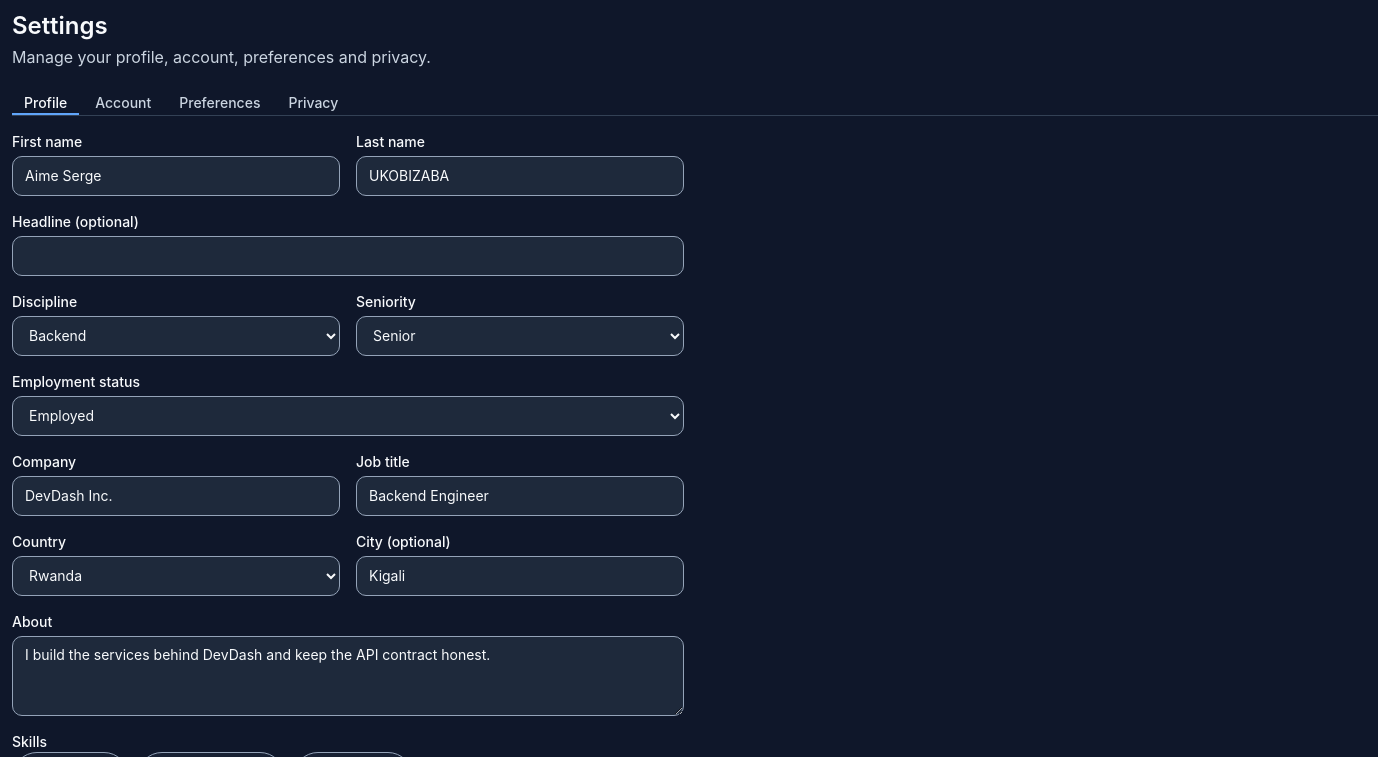
Test: MF-12 settings › MF-16: the privacy switch saves immediately
Click the tab "Privacy" at (313, 104), box [276, 93, 350, 115]
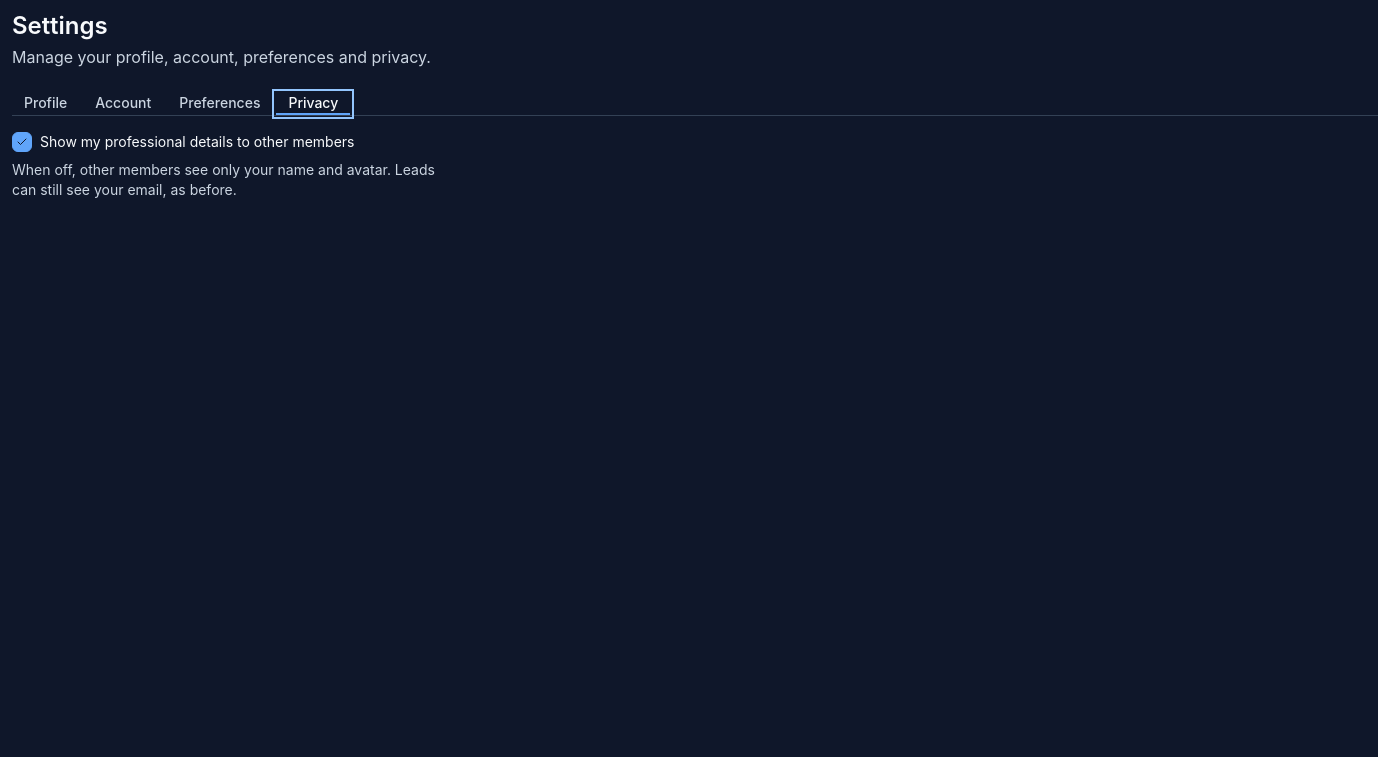
Now the checkbox labelled "Show my professional details to other members" is checked
Click the checkbox labelled "Show my professional details to other members" at (183, 142), box [12, 132, 354, 152]
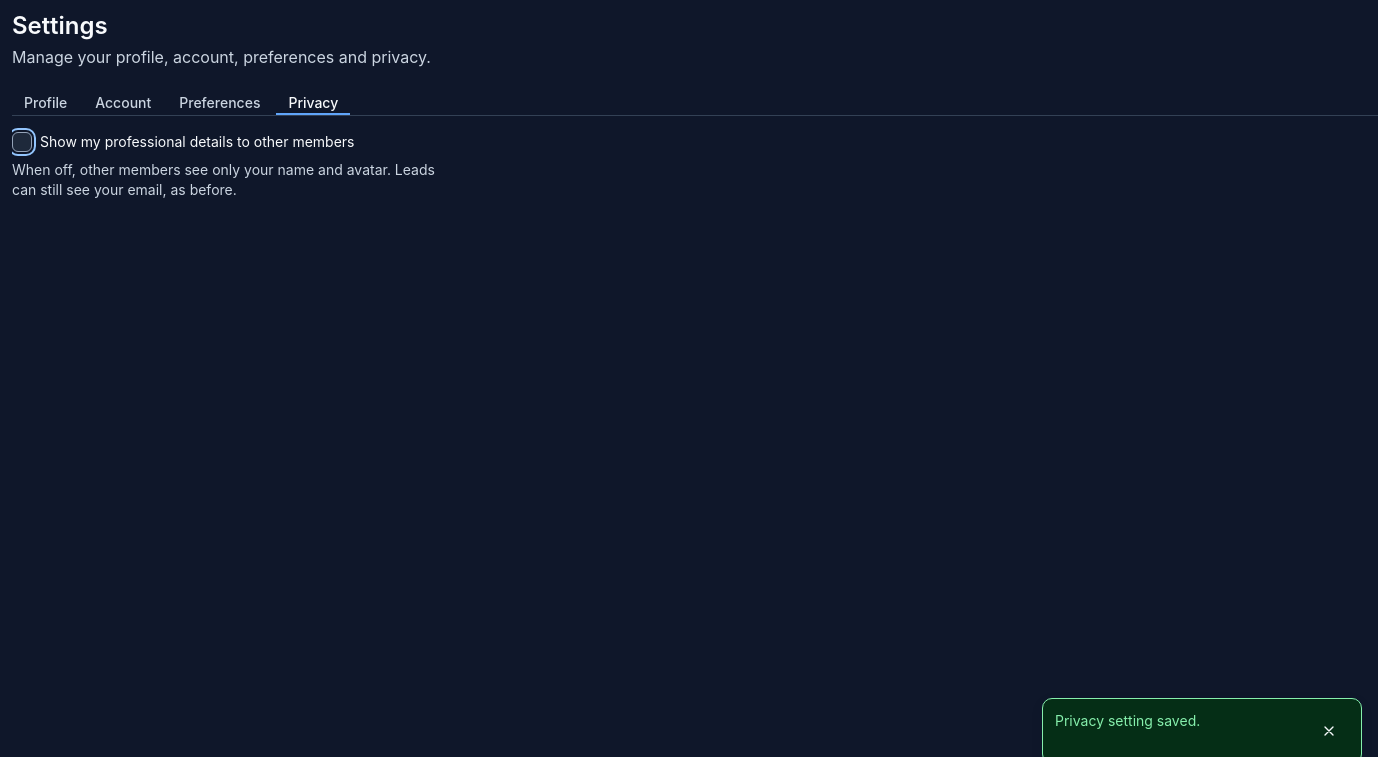
Now the checkbox labelled "Show my professional details to other members" is not checked, box [12, 132, 354, 152]
Now the text "Privacy setting saved." is shown, box [1055, 712, 1200, 729]
